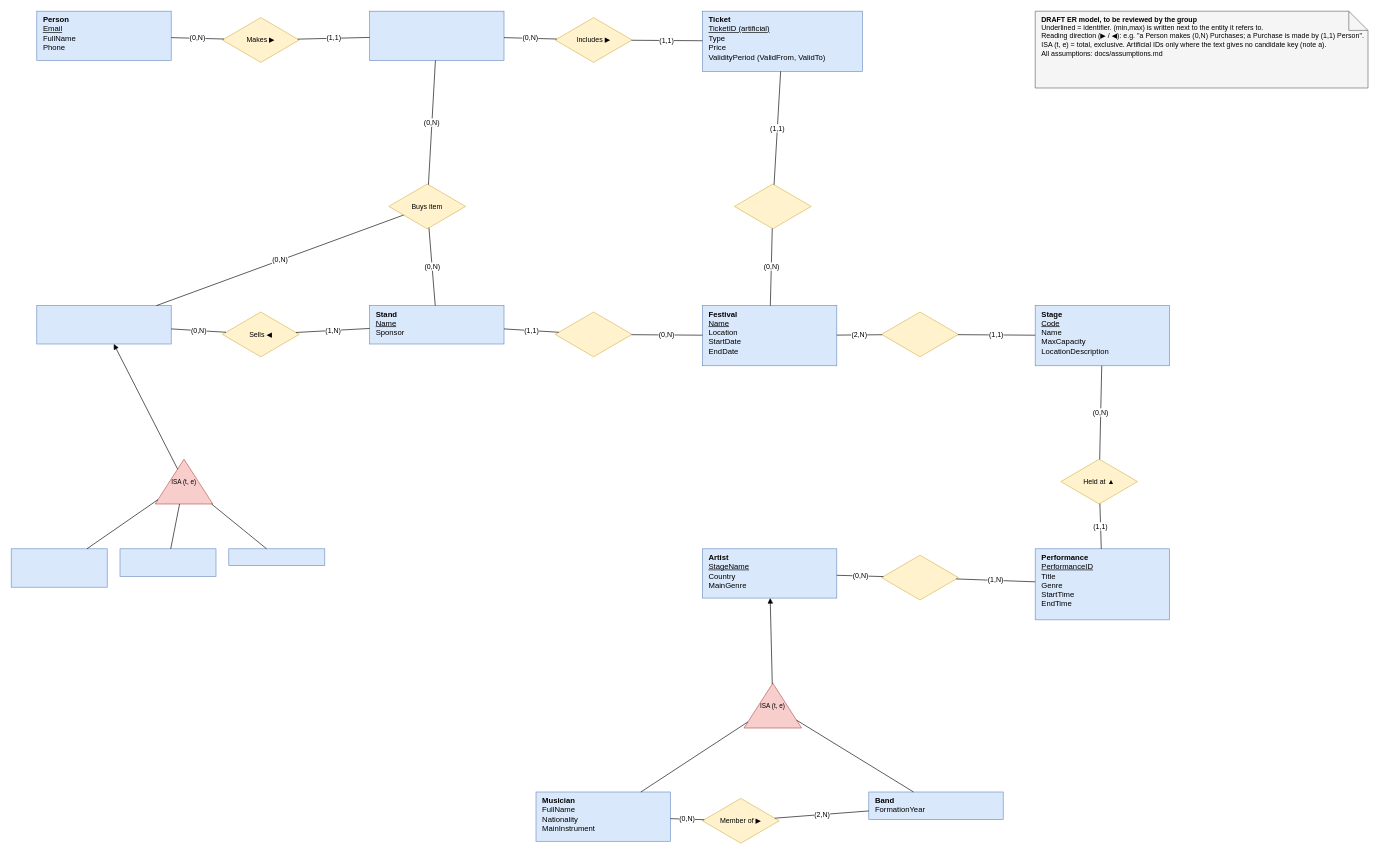
This 1379x854 diagram has some shape labels left out. The centre of each missing label's shape, as x and y in pixels:
"Divided into ▶" belongs at (x=919, y=334).
"Drink ExpirationDate" belongs at (x=167, y=562).
"Food ExpirationDate Type" belongs at (x=59, y=567).
"Given by ▶" belongs at (x=919, y=577).
"Hosts ◀" belongs at (x=593, y=334).
"Merchandise" belongs at (x=276, y=556).
"Product Name Price" belongs at (x=103, y=324).
"Purchase PurchaseID (artificial) Date PaymentMethod" belongs at (x=436, y=35).
"Valid for ▼" belongs at (x=772, y=206).
